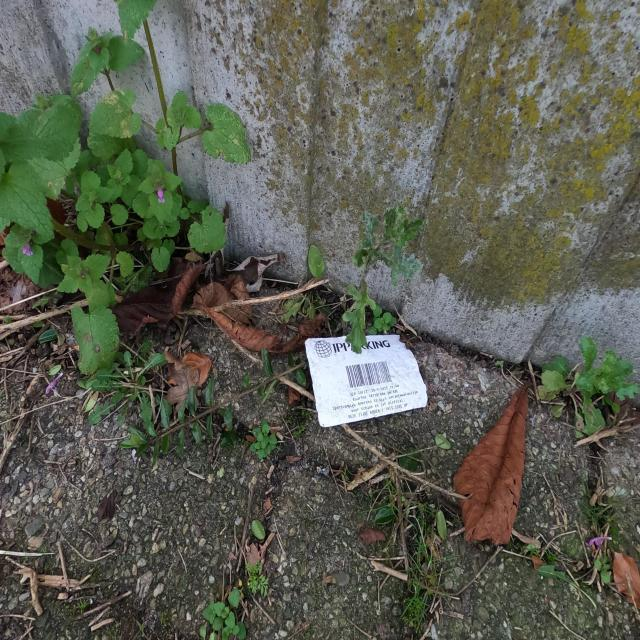Paper: (304, 330, 432, 426)
